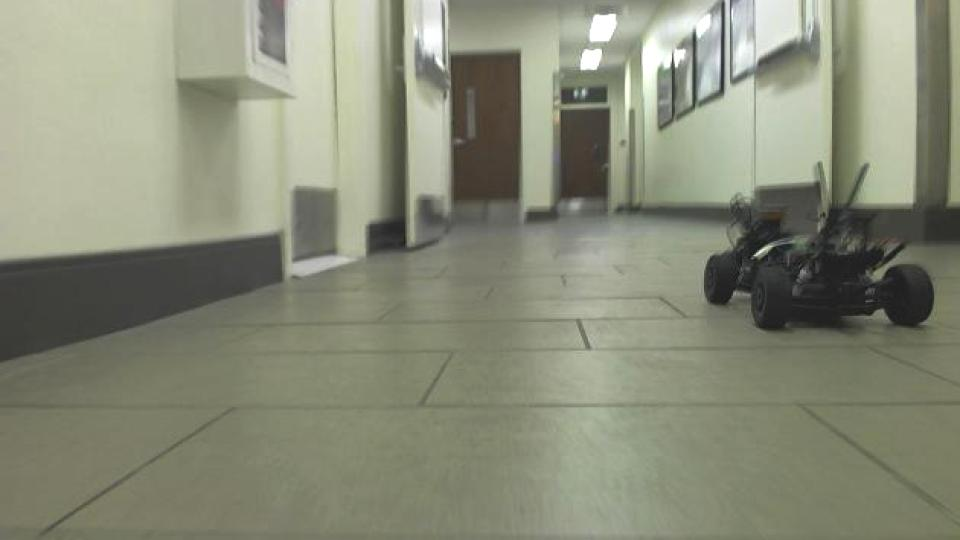car: (700, 158, 937, 332)
